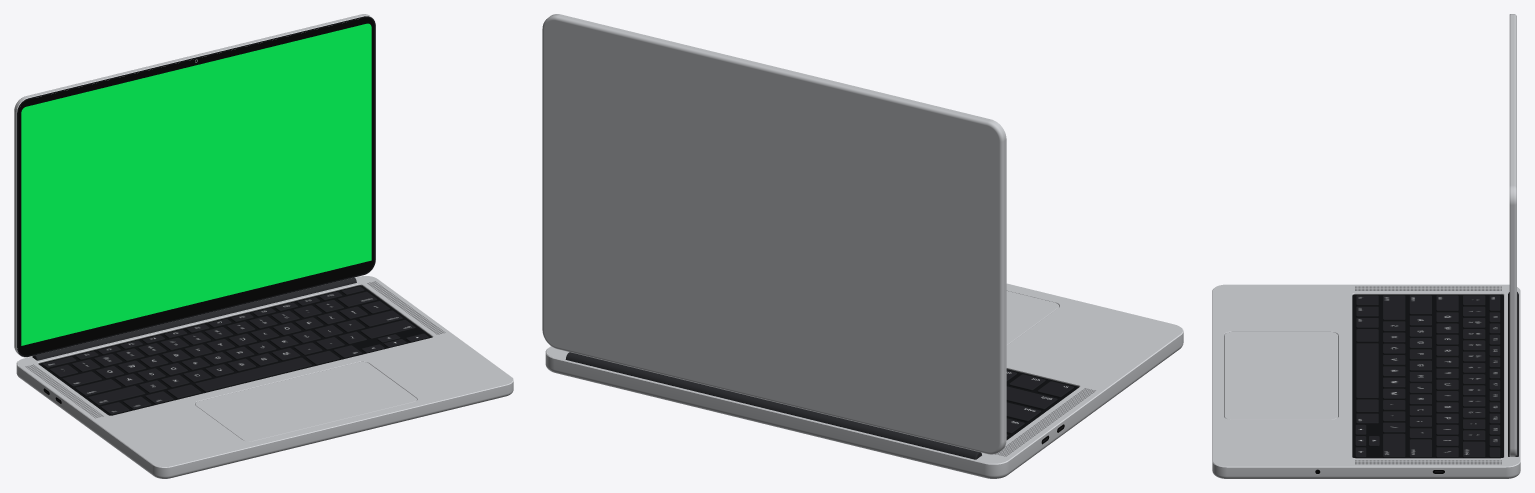
File: laptop-14.glb
3 views of the same model, side by side, from view 1: azimuth 30°, elevation 25°; view 2: azimuth 150°, elevation 25°; view 3: azimuth 270°, elevation 25° (orthographic). The views are drawn at different scales.
Parts seen in each view (by area): view 1: Screen, Keys, Deck, Trackpad, Bezel, KeyboardWell, BaseShell, Gasket, Hinge, LidShell, LidChamfer, BaseChamfer (+2 smaller); view 2: LidBack, Deck, BaseShell, LidShell, Hinge, Keys, Trackpad, BaseChamfer, Grille, KeyboardWell; view 3: Keys, Deck, Trackpad, KeyboardWell, BaseShell, LidShell, Grille (×2), BaseChamfer, LidChamfer, Hinge, KeyboardEdge.
Part boxes in pixels (bbox=[...]): Screen: bbox=[21, 23, 371, 345]; Keys: bbox=[42, 286, 428, 414]; Deck: bbox=[17, 276, 512, 466]; Trackpad: bbox=[195, 362, 416, 441]; Bezel: bbox=[18, 17, 374, 355]; KeyboardWell: bbox=[38, 285, 432, 415]; BaseShell: bbox=[16, 365, 513, 478]; Gasket: bbox=[17, 16, 375, 356]; Hinge: bbox=[32, 277, 356, 360]; LidShell: bbox=[14, 14, 370, 354]; LidChamfer: bbox=[16, 15, 375, 357]; BaseChamfer: bbox=[16, 361, 513, 467]; LidBack: bbox=[544, 20, 999, 452]; Deck: bbox=[546, 283, 1182, 463]; BaseShell: bbox=[545, 332, 1183, 478]; LidShell: bbox=[542, 14, 1006, 454]; Hinge: bbox=[565, 352, 981, 459]; Keys: bbox=[1006, 370, 1073, 437]; Trackpad: bbox=[1006, 291, 1059, 345]; BaseChamfer: bbox=[545, 328, 1183, 464]; Grille: bbox=[995, 388, 1095, 456]; KeyboardWell: bbox=[1006, 369, 1078, 439]; Keys: bbox=[1355, 295, 1500, 457]; Deck: bbox=[1213, 284, 1519, 466]; Trackpad: bbox=[1224, 332, 1337, 419]; KeyboardWell: bbox=[1352, 294, 1503, 458]; BaseShell: bbox=[1212, 462, 1520, 478]; LidShell: bbox=[1510, 14, 1516, 456]; Grille (×2): bbox=[1355, 286, 1501, 464]; BaseChamfer: bbox=[1212, 289, 1520, 467]; LidChamfer: bbox=[1509, 14, 1510, 456]; Hinge: bbox=[1508, 292, 1518, 456]; KeyboardEdge: bbox=[1352, 293, 1504, 456].
Bounding box in the file's own units: 0.3106 × 0.2296 × 0.2215.
16 materials, 2 textured.
